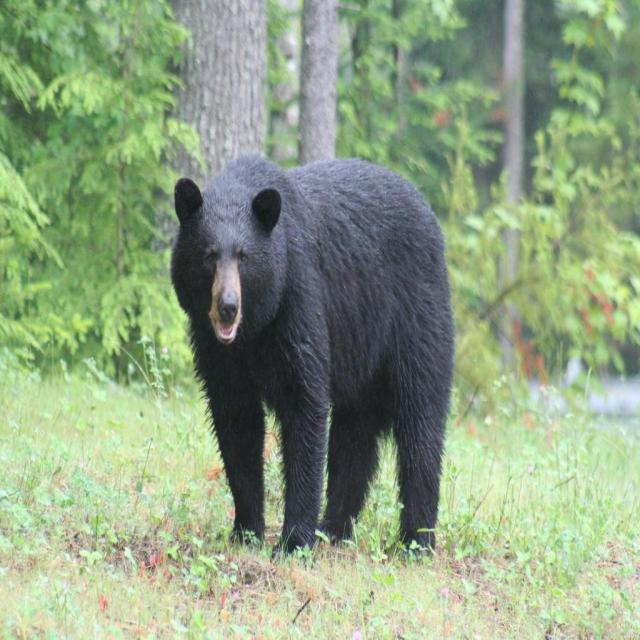Bear: (169, 155, 456, 556)
